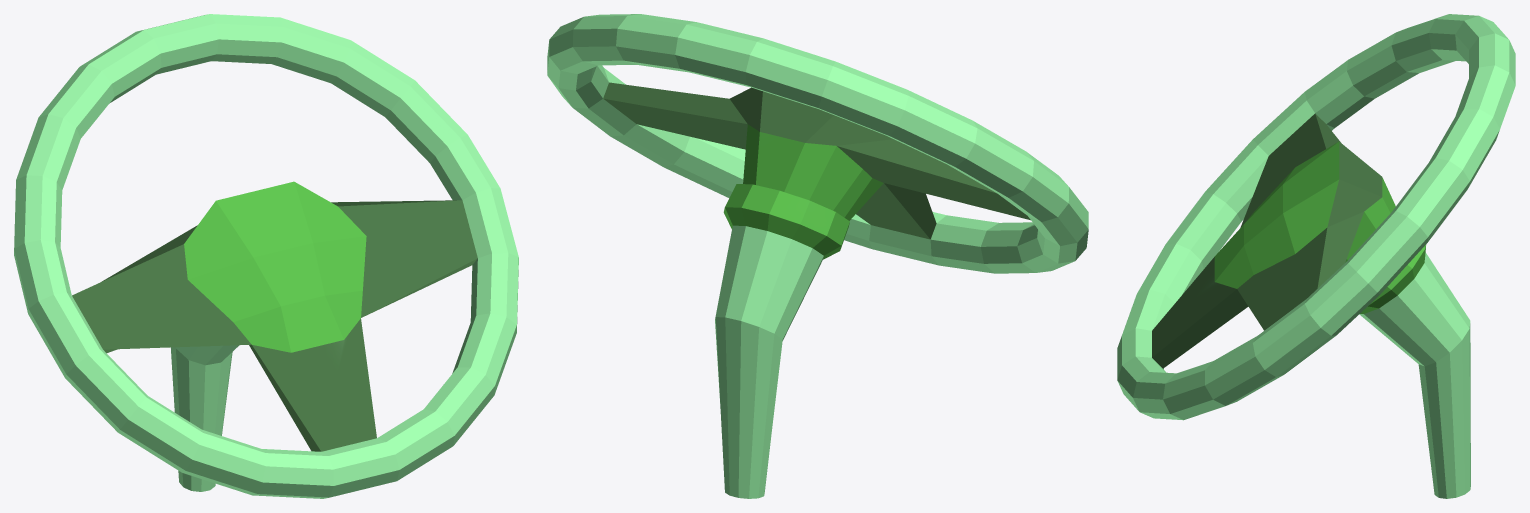
File: VolCarro.fbx
The picture shows the model from 3 angles, left to right: view 1: azimuth 30°, elevation 25°; view 2: azimuth 150°, elevation 25°; view 3: azimuth 270°, elevation 25°; orthographic projection. The views are drawn at different scales.
Parts seen in each view (by area): view 1: Volante, VolanteBASE; view 2: Volante, VolanteBASE; view 3: Volante, VolanteBASE.
Part boxes in pixels (x1=…): Volante: x1=14, y1=14, x2=518, y2=498; VolanteBASE: x1=170, y1=345, x2=238, y2=491; Volante: x1=547, y1=14, x2=1088, y2=273; VolanteBASE: x1=715, y1=184, x2=849, y2=498; Volante: x1=1117, y1=14, x2=1515, y2=420; VolanteBASE: x1=1359, y1=244, x2=1470, y2=498.
Size of the model in its own units: 80.9 by 73.23 by 59.53.
